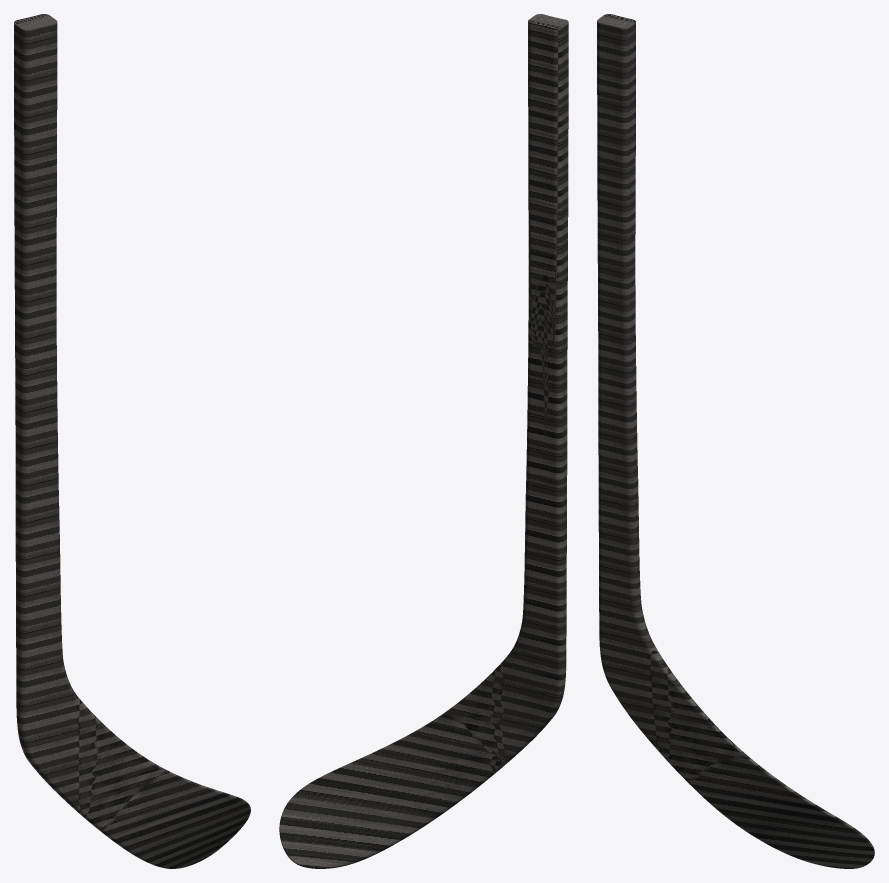
The model's file is P70-SBT.glb.
3 renders of one model, left to right at view 1: azimuth 30°, elevation 25°; view 2: azimuth 150°, elevation 25°; view 3: azimuth 330°, elevation 25°, orthographic. The views are drawn at different scales.
Parts seen in each view (by area): view 1: geometry_0; view 2: geometry_0; view 3: geometry_0.
Boxes of the visible parts, bbox=[...] form: geometry_0: bbox=[14, 14, 250, 868]; geometry_0: bbox=[279, 14, 568, 868]; geometry_0: bbox=[597, 14, 874, 868].
Bounding box in the file's own units: 227 × 748 × 78.08.
Materials: 1 (1 with a texture image).
